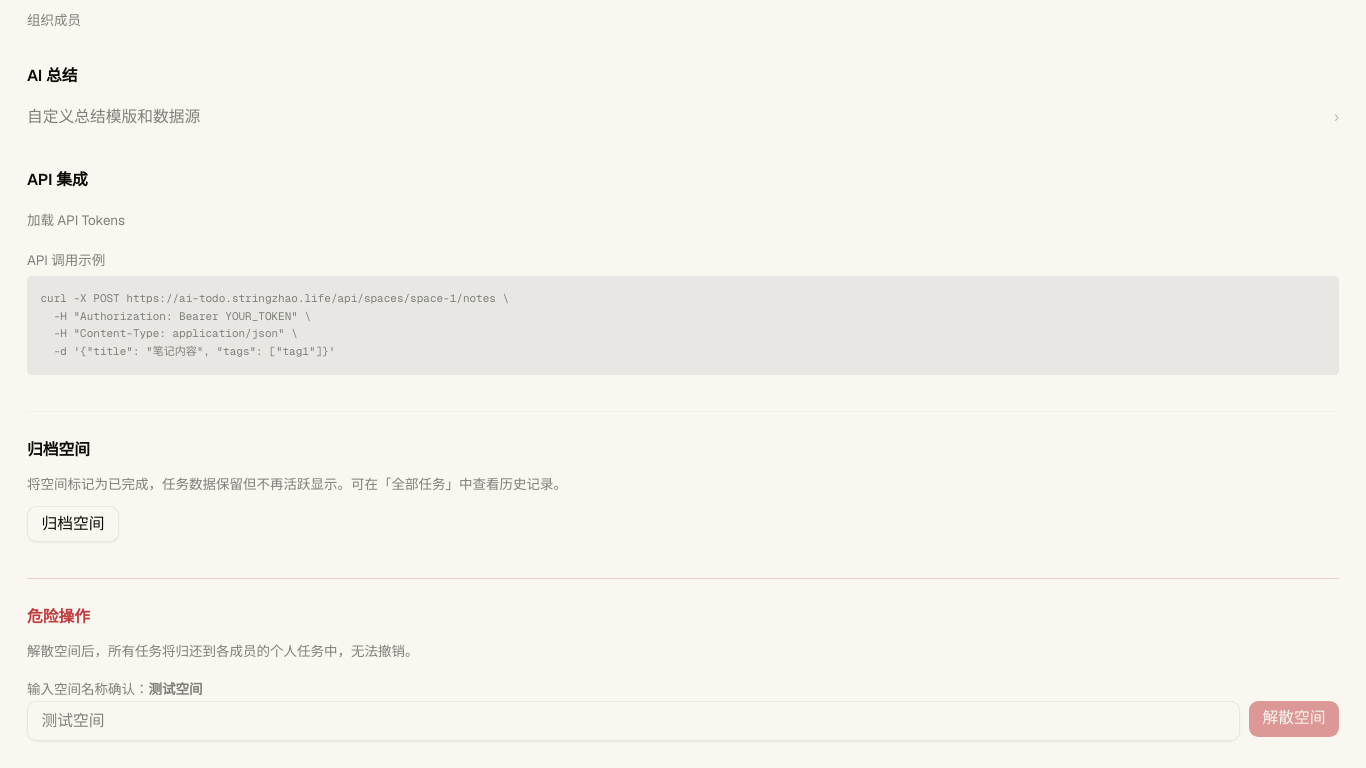
Test: SpaceSettings 归档确认 › 点击「归档空间」应弹出确认对话框
(page scrolled)
# 找到归档按钮并点击
Click the button "归档空间" at (73, 524), box [27,506,119,542]
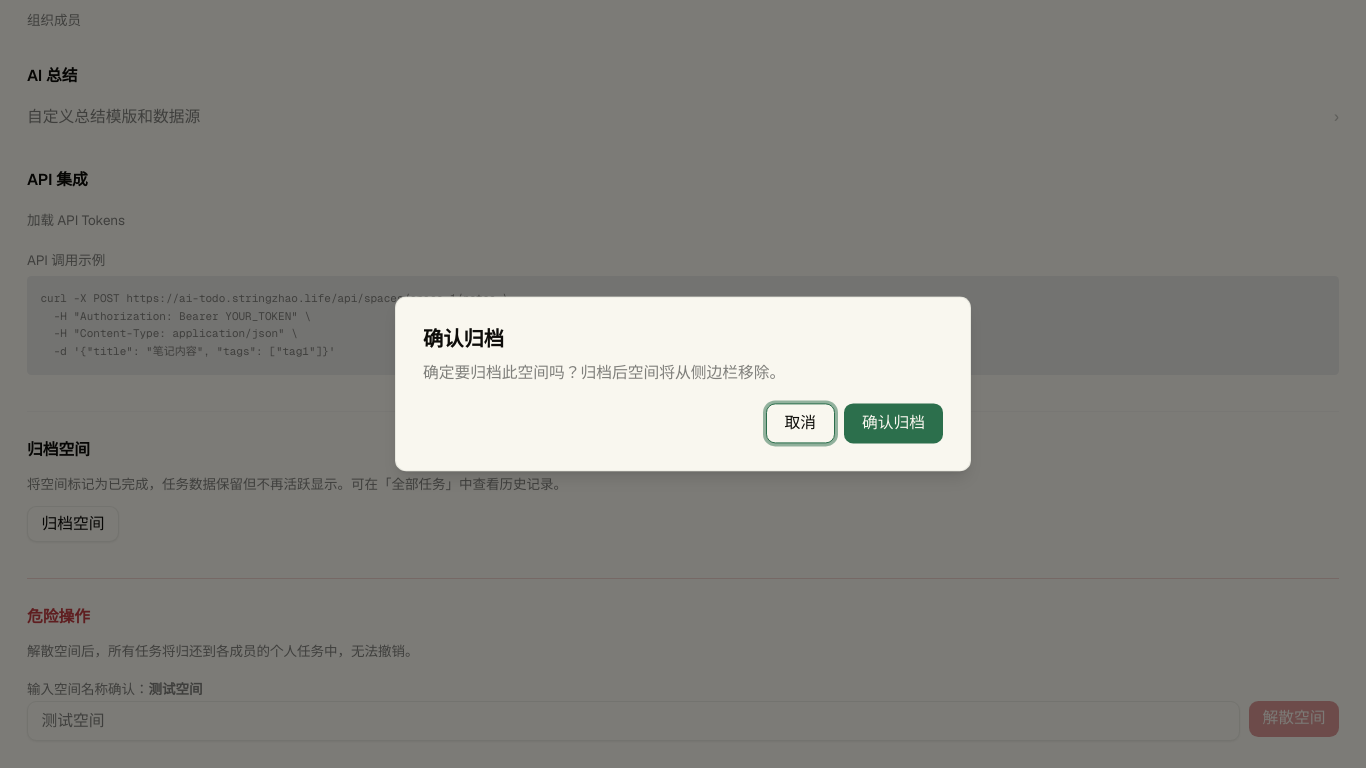
Expected: the dialog is shown, [395,296,971,472]
